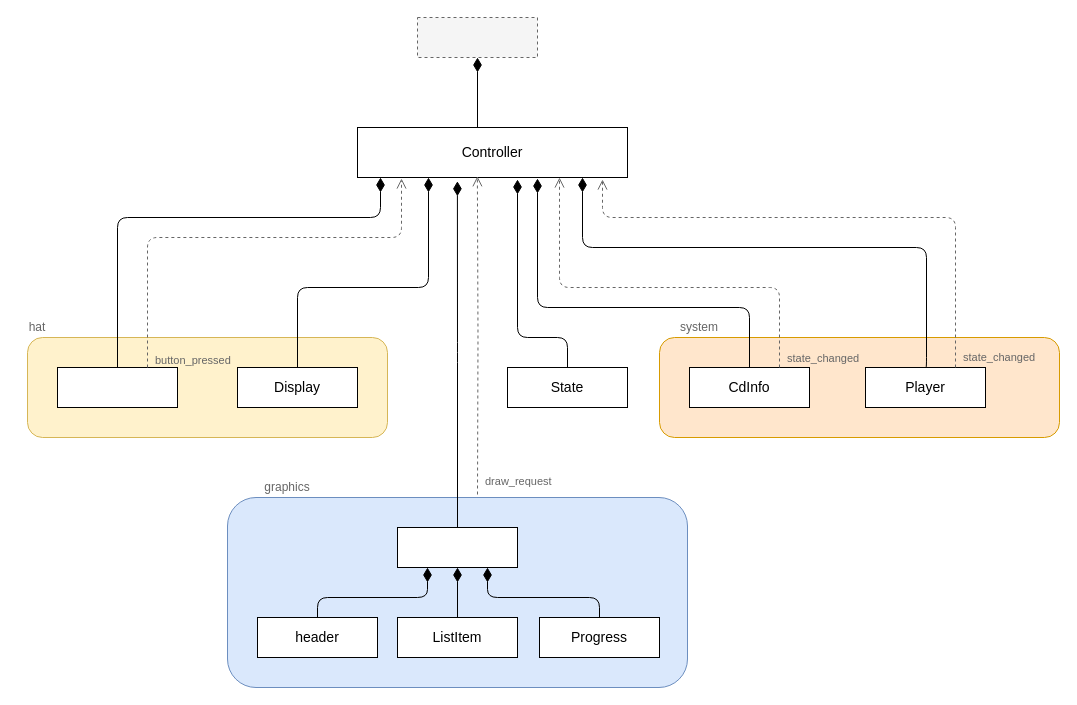
The diagram is 1077 pixels wide and 705 high, and some of its shapes have lost their labels. Here are the shapes that lost their labels. From the top down, the centre of each, then its label:
At pixel 477 37: "main".
At pixel 117 387: "Keyboard".
At pixel 457 547: "Screen".
